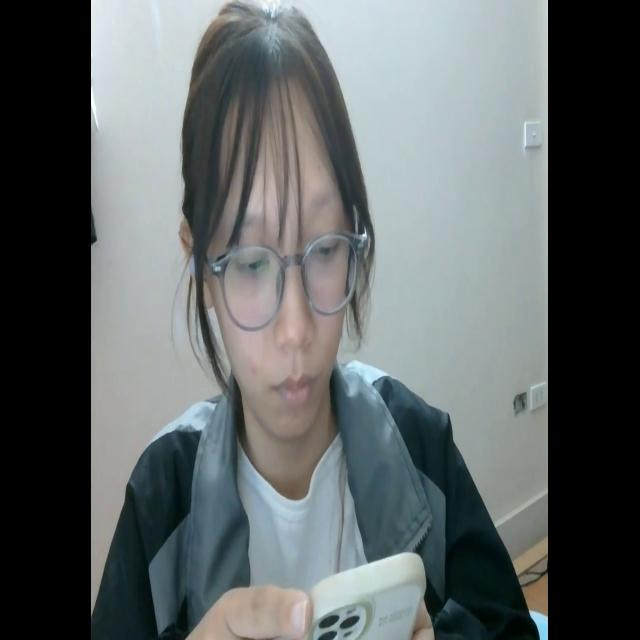phone: (298, 548, 428, 640)
student: (98, 4, 538, 640)
